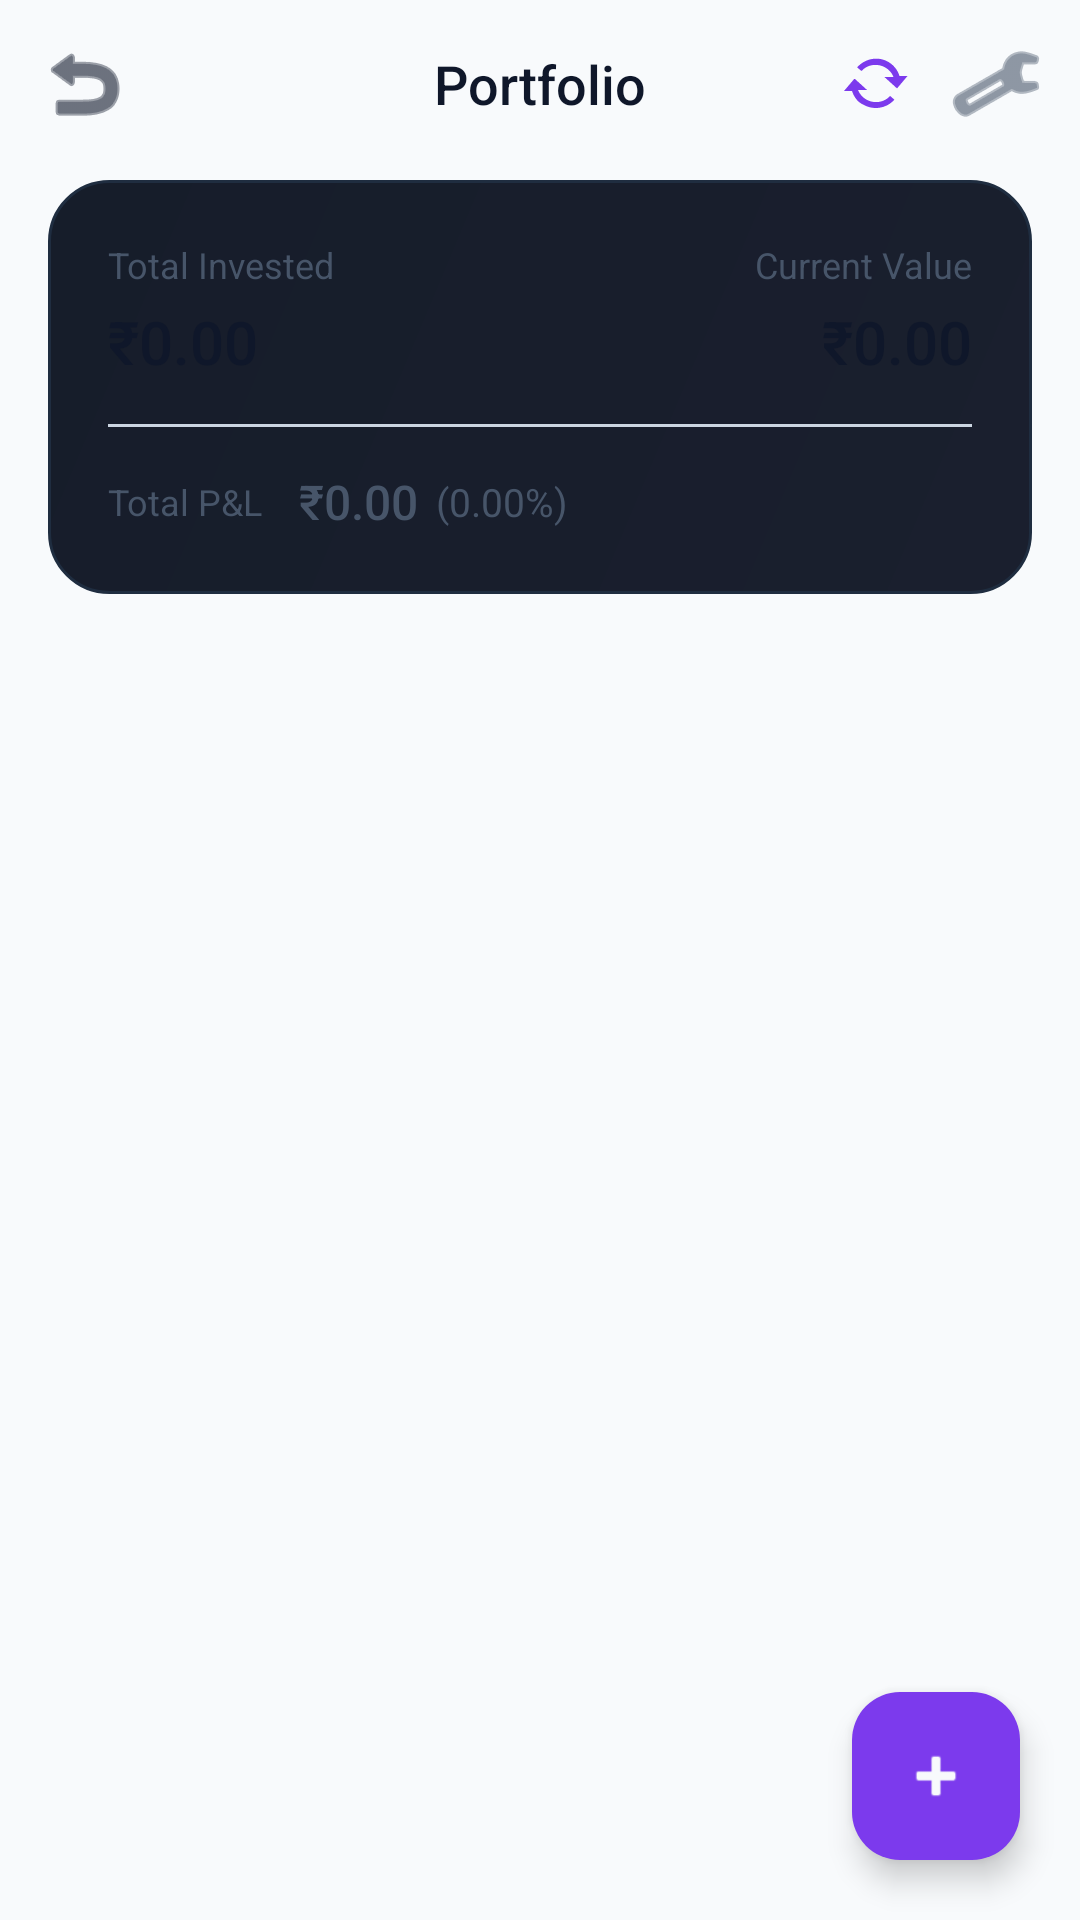

Icons on this 1080*1920 Android screen, each with the point to tap as [x,y]:
Account settings: [996,84]
Add a new stock: [936,1776]
Back: [85,84]
Sync holdings from broker: [876,83]
